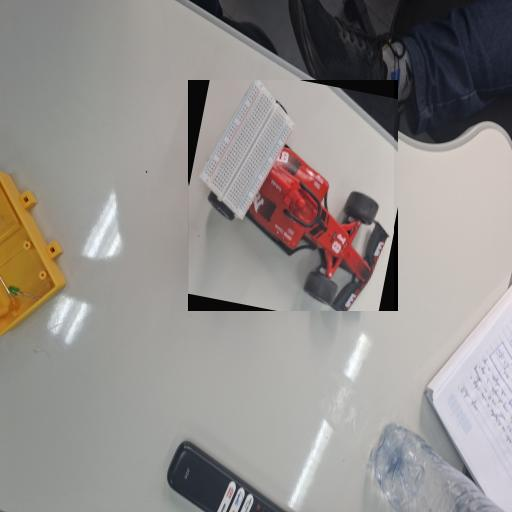carro: (189, 80, 393, 311)
